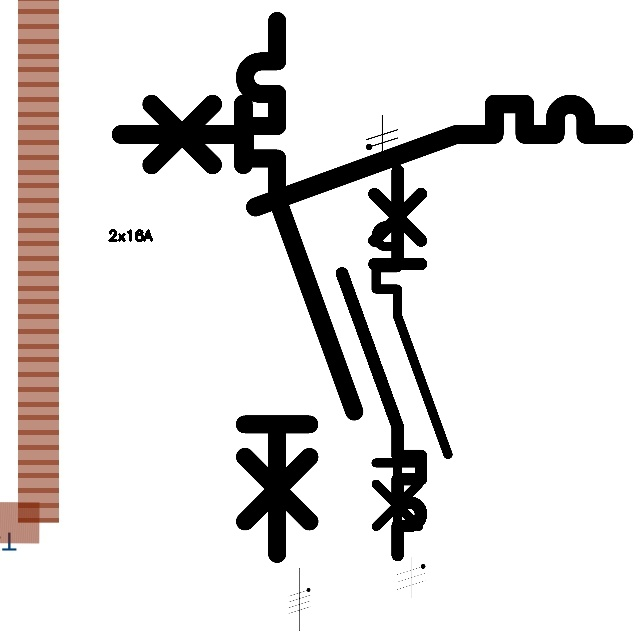interruptor_termomagnetico: (231, 7, 368, 567), (108, 91, 637, 220), (332, 160, 431, 564), (367, 190, 456, 557)
